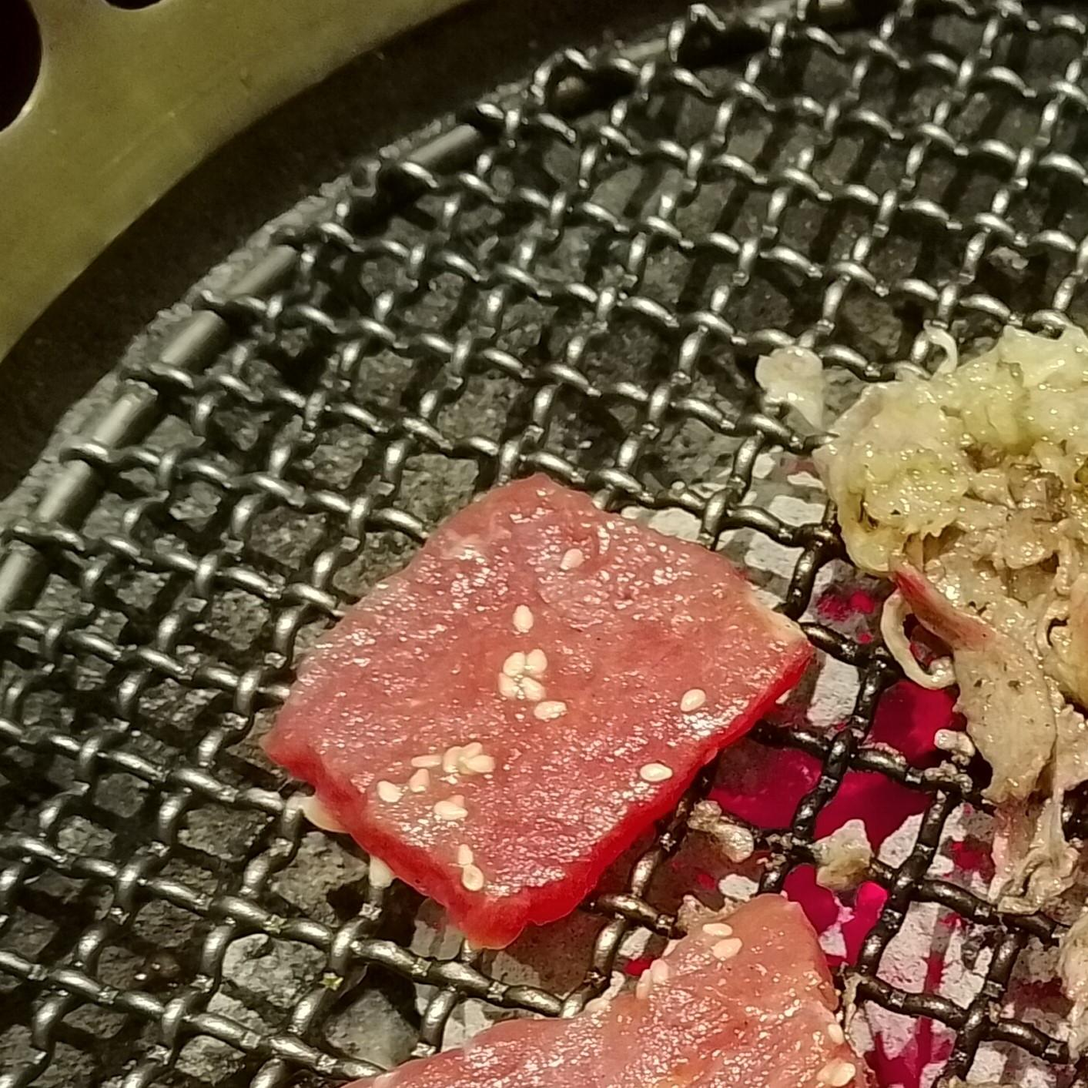Undercooked: (265, 474, 812, 949), (347, 894, 868, 1087)
Well-Cooked: (813, 326, 1087, 806)
